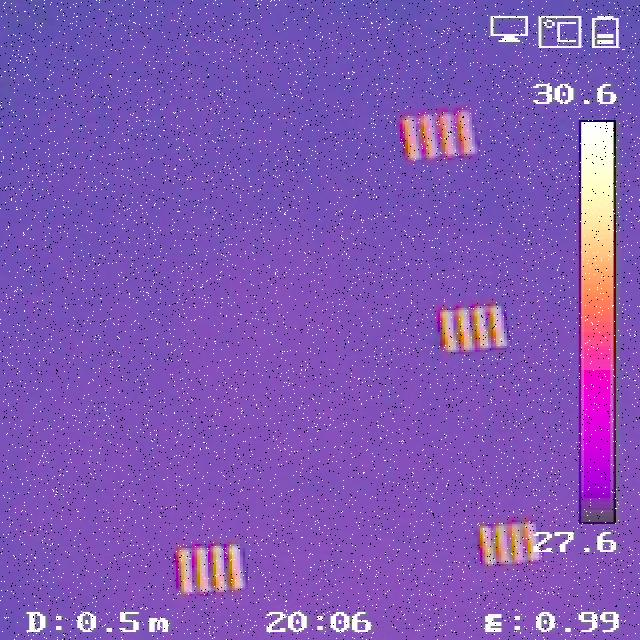Distinguishable 4-bar target: (399, 107, 477, 164), (436, 303, 512, 350), (174, 545, 247, 592), (478, 525, 542, 566)
